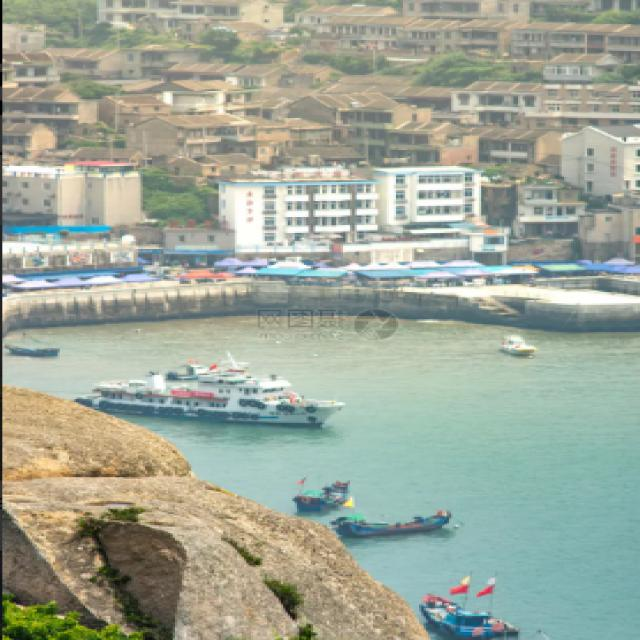fishing boat: (429, 567, 530, 633), (282, 474, 361, 528), (337, 508, 459, 537)
passenger ship: (93, 346, 346, 426)
